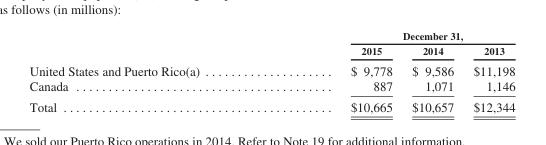table: (28, 29, 514, 113)
table column: (28, 29, 274, 113), (274, 29, 401, 113), (401, 29, 462, 113), (462, 29, 514, 113)
table column header: (28, 29, 514, 59)
table row: (28, 59, 514, 78), (28, 78, 514, 96), (28, 42, 514, 59), (28, 96, 514, 113), (28, 29, 514, 42)
table spanning cell: (274, 29, 514, 42)
